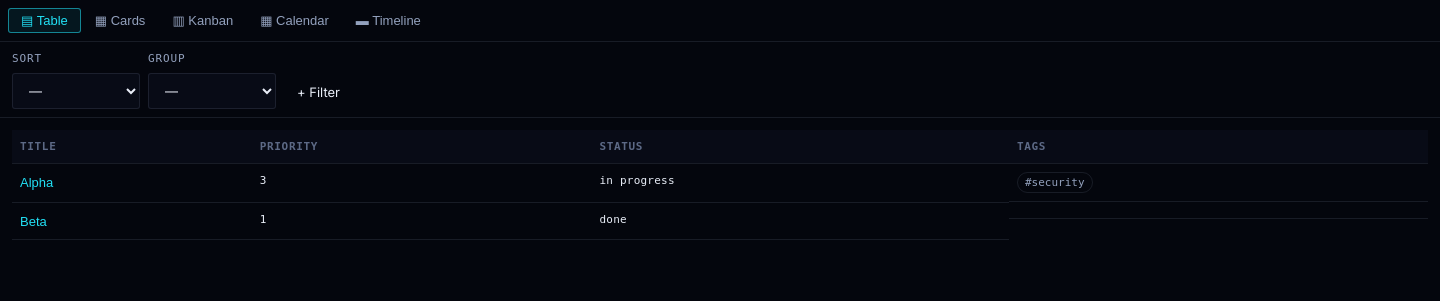
Test: ViewsStage › adds a filter row
Expected: the button "Alpha" is shown, [20,175,53,190]
Click the button "+ Filter" at (318, 92), box [284,75,353,109]
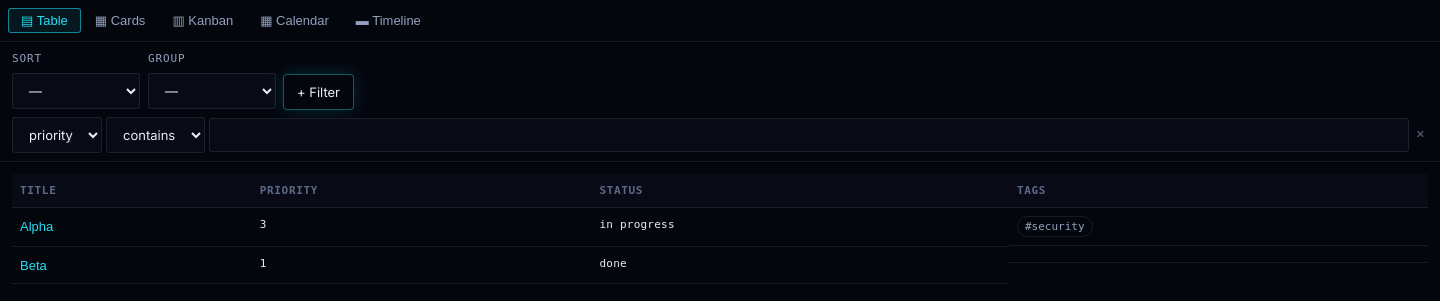
Now the dropdown named "Filter field" is shown, box [12,117,102,153]
Now the dropdown named "Filter operator" is shown, box [106,117,205,153]
